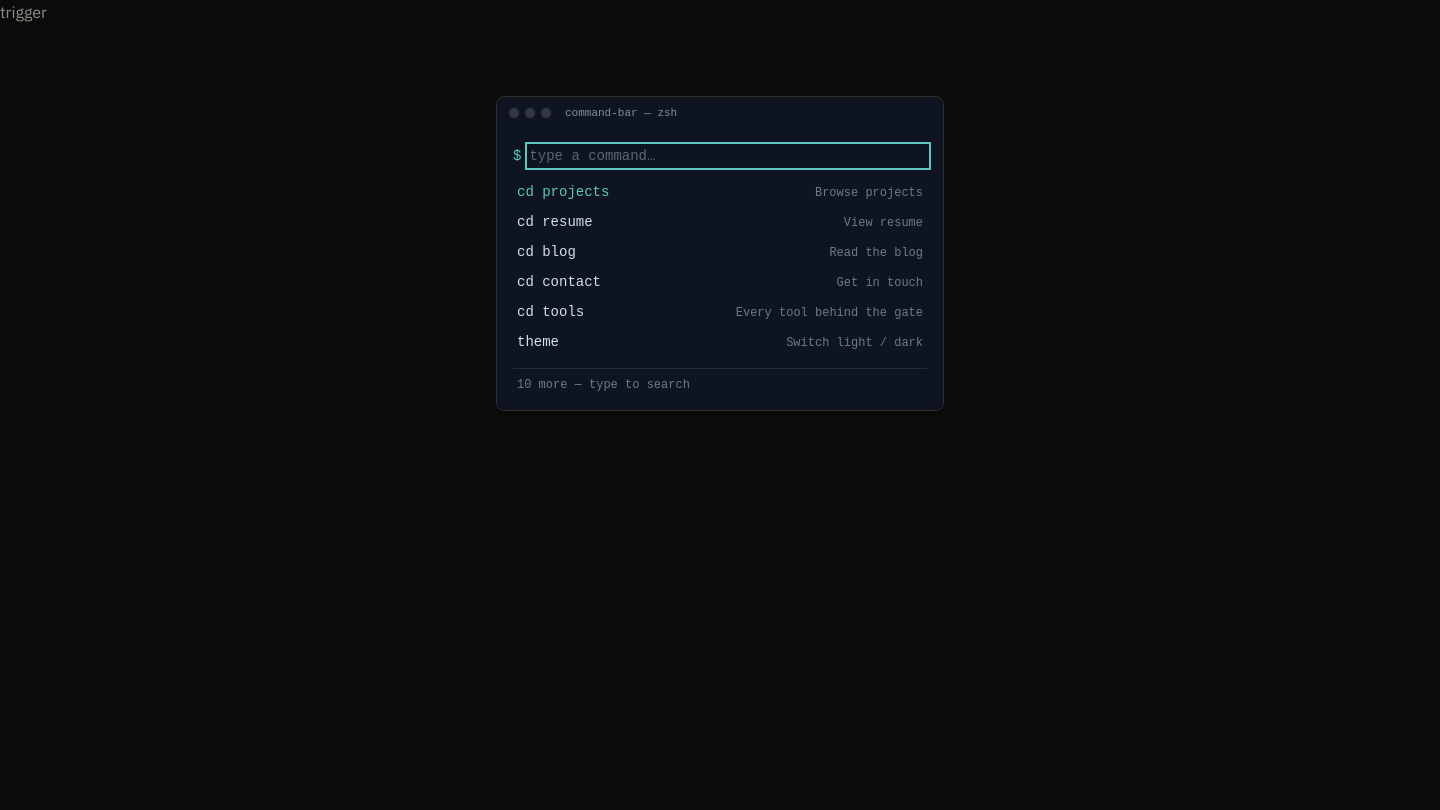
CommandBar › ignores a repeat Ctrl+K while already open, preserving the typed query and focus-restore target
The width and height of the screenshot is (1440, 810).
Expected: the dialog is shown, [496,96,944,412]
Type "resume" into the field labelled "command".
click(728, 156); type("resume")  # box [529,146,927,166]
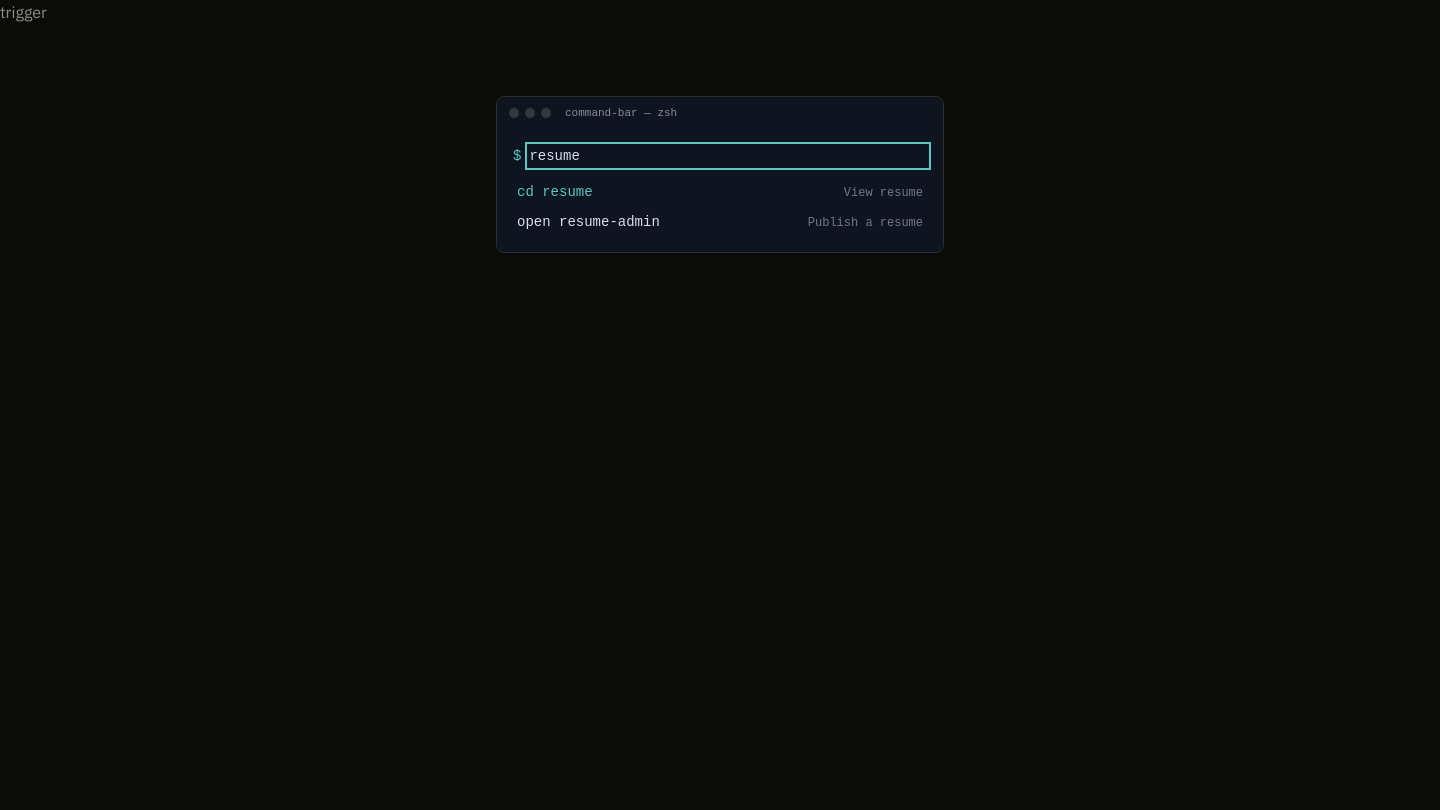
Press k
Press Escape in the field named "command", box [529,146,927,166]
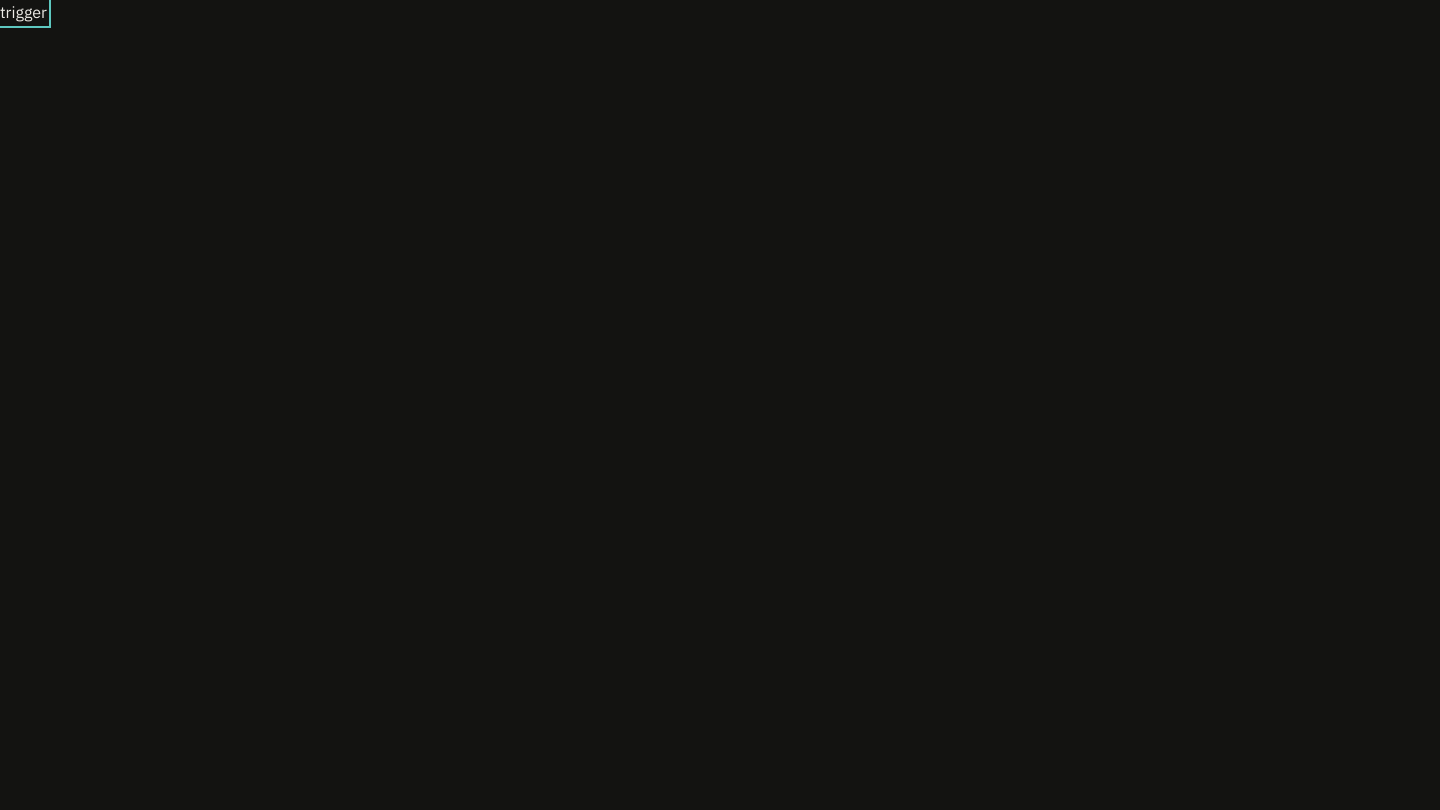
Result: the dialog is gone
